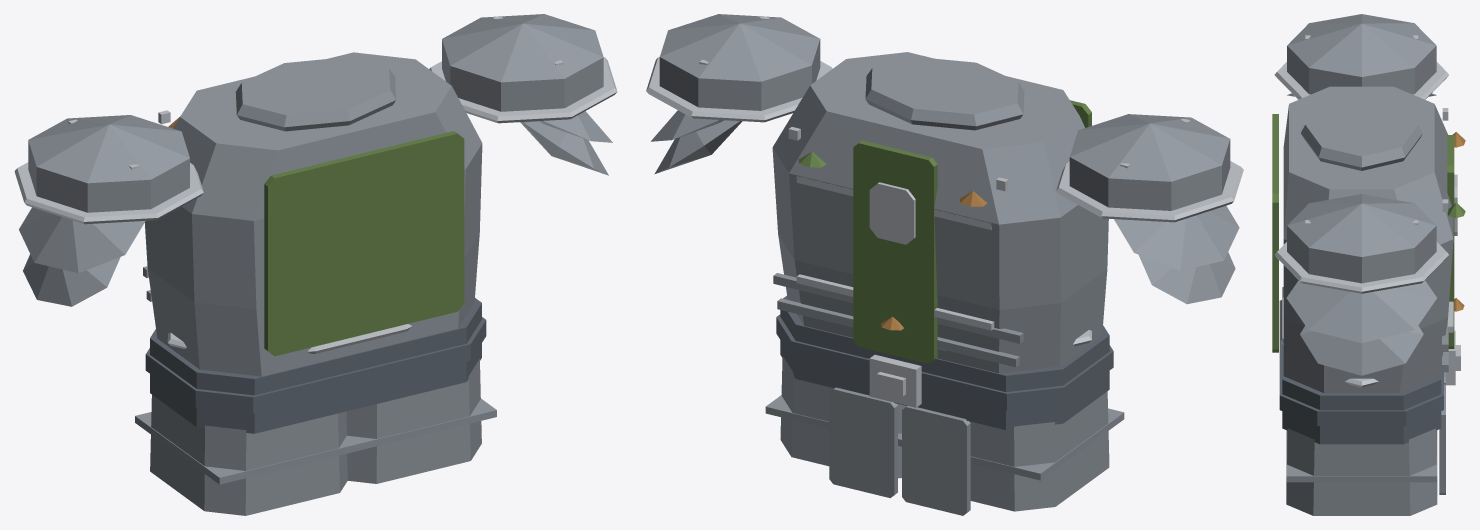
Rendered from armor_greatsword_s2.fbx.
3 views of the same model, side by side, from view 1: azimuth 30°, elevation 25°; view 2: azimuth 150°, elevation 25°; view 3: azimuth 270°, elevation 25° (orthographic). The views are drawn at different scales.
Visible parts, largest first — view 1: Chest_Body, Chest_Attach, Shoulder_L_Body, Chest_Inner, Tasset_L_Body, Shoulder_R_Body, Tasset_R_Body, Shoulder_L_Trim, Shoulder_R_Trim, Chest_Trim_Ep; view 2: Chest_Body, Shoulder_L_Body, Tasset_L_Body, Chest_Inner, Shoulder_R_Body, Chest_Attach, Tasset_R_Body, Chest_Trim, Shoulder_L_Trim, Shoulder_R_Trim; view 3: Chest_Body, Shoulder_R_Body, Tasset_R_Body, Shoulder_L_Body, Chest_Inner, Chest_Attach, Shoulder_R_Trim, Chest_Trim, Shoulder_L_Trim, Chest_Trim_Ep, Chest_Gem_Ep.
Part boxes in pixels (bbox=[...]): Chest_Body: bbox=[143, 52, 482, 376]; Chest_Attach: bbox=[264, 131, 464, 356]; Shoulder_L_Body: bbox=[19, 115, 189, 306]; Chest_Inner: bbox=[145, 298, 486, 433]; Tasset_L_Body: bbox=[135, 395, 366, 515]; Shoulder_R_Body: bbox=[442, 14, 612, 175]; Tasset_R_Body: bbox=[344, 359, 496, 483]; Shoulder_L_Trim: bbox=[14, 119, 203, 224]; Shoulder_R_Trim: bbox=[429, 16, 617, 123]; Chest_Trim_Ep: bbox=[167, 324, 411, 353]; Chest_Body: bbox=[772, 52, 1108, 373]; Shoulder_L_Body: bbox=[1069, 114, 1239, 304]; Tasset_L_Body: bbox=[898, 391, 1124, 515]; Chest_Inner: bbox=[776, 296, 1113, 429]; Shoulder_R_Body: bbox=[651, 14, 820, 174]; Chest_Attach: bbox=[798, 100, 1091, 363]; Tasset_R_Body: bbox=[765, 356, 906, 498]; Chest_Trim: bbox=[788, 127, 1008, 407]; Shoulder_L_Trim: bbox=[1056, 118, 1243, 222]; Shoulder_R_Trim: bbox=[646, 16, 832, 122]; Chest_Body: bbox=[1283, 86, 1453, 393]; Shoulder_R_Body: bbox=[1286, 194, 1436, 375]; Tasset_R_Body: bbox=[1286, 384, 1445, 515]; Shoulder_L_Body: bbox=[1287, 14, 1436, 96]; Chest_Inner: bbox=[1279, 287, 1443, 444]; Chest_Attach: bbox=[1272, 114, 1465, 352]; Shoulder_R_Trim: bbox=[1274, 220, 1448, 293]; Chest_Trim: bbox=[1442, 108, 1460, 385]; Shoulder_L_Trim: bbox=[1274, 35, 1448, 99]; Chest_Trim_Ep: bbox=[1280, 297, 1378, 387]; Chest_Gem_Ep: bbox=[1453, 132, 1465, 311].
Size of the model in its own units: 446 by 289 by 144.
